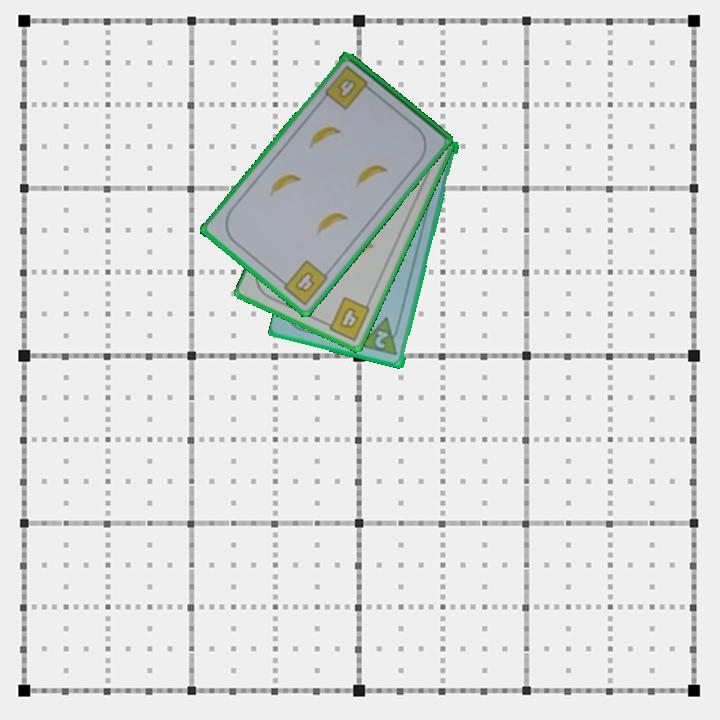2p: (371, 327, 392, 352)
4b: (275, 257, 331, 308), (321, 62, 376, 113), (320, 293, 373, 344)
